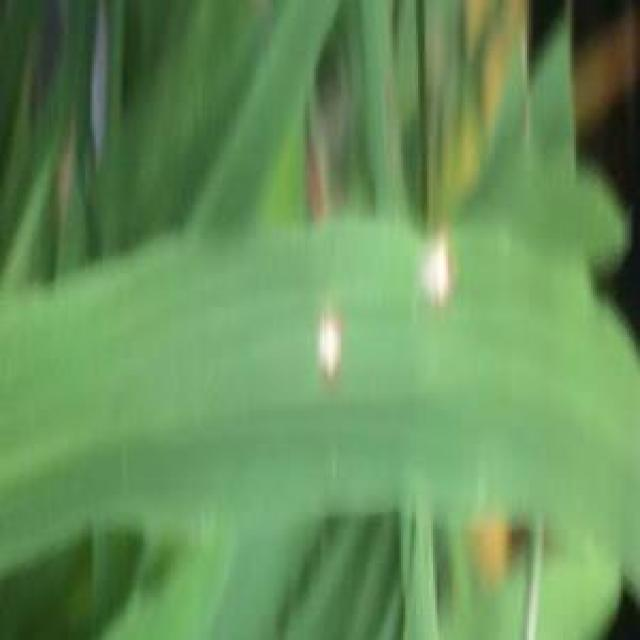Rice_Blast: (408, 237, 465, 316), (302, 306, 358, 382)
